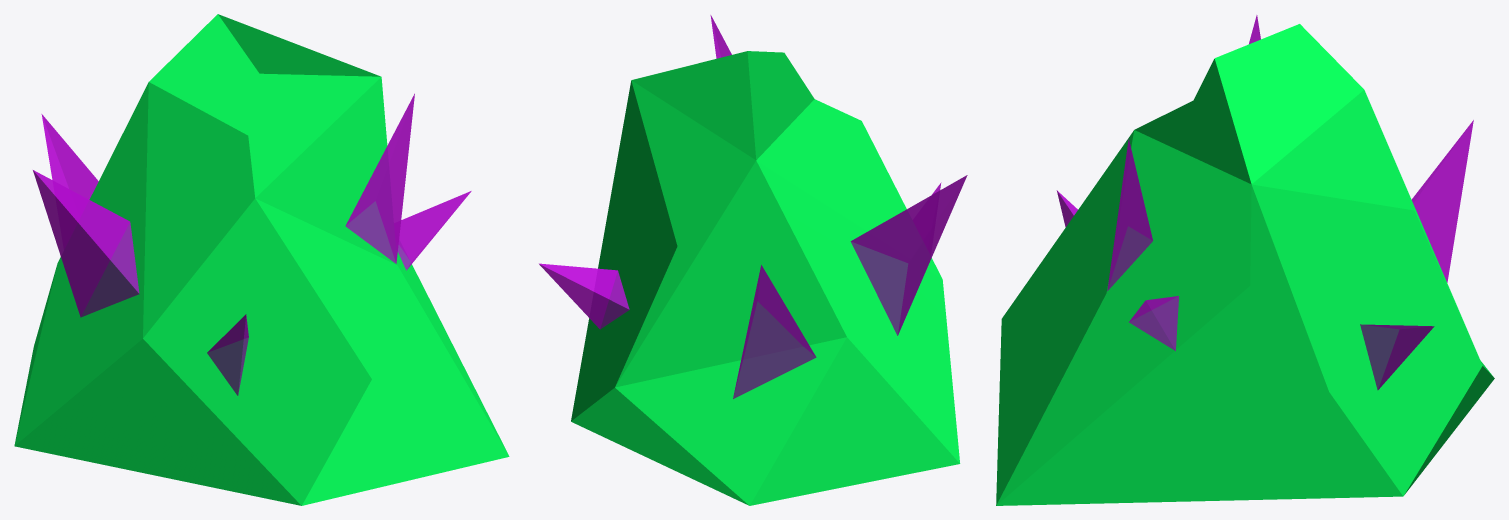
File: Nest.fbx
3 renders of one model, left to right at view 1: azimuth 30°, elevation 25°; view 2: azimuth 150°, elevation 25°; view 3: azimuth 270°, elevation 25°, orthographic. The views are drawn at different scales.
Parts seen in each view (by area): view 1: Nest, Shard.1, Shard.3, Shard.5, Shard.0, Shard.2; view 2: Nest, Shard.1, Shard.0, Shard.4; view 3: Nest, Shard.0, Shard.3, Shard.4, Shard.5.
Part boxes in pixels (x1,y1,x2,y2): Nest: (14,14,509,505); Shard.1: (33,170,139,317); Shard.3: (345,93,414,263); Shard.5: (398,191,471,270); Shard.0: (41,114,98,199); Shard.2: (207,314,248,395); Nest: (571,51,960,505); Shard.1: (850,175,967,335); Shard.0: (733,265,816,398); Shard.4: (539,263,629,329); Nest: (996,24,1494,505); Shard.0: (1411,120,1473,282); Shard.3: (1107,138,1152,290); Shard.4: (1360,324,1434,390); Shard.5: (1129,296,1178,351).
Size of the model in its own units: 387 by 354 by 397.
